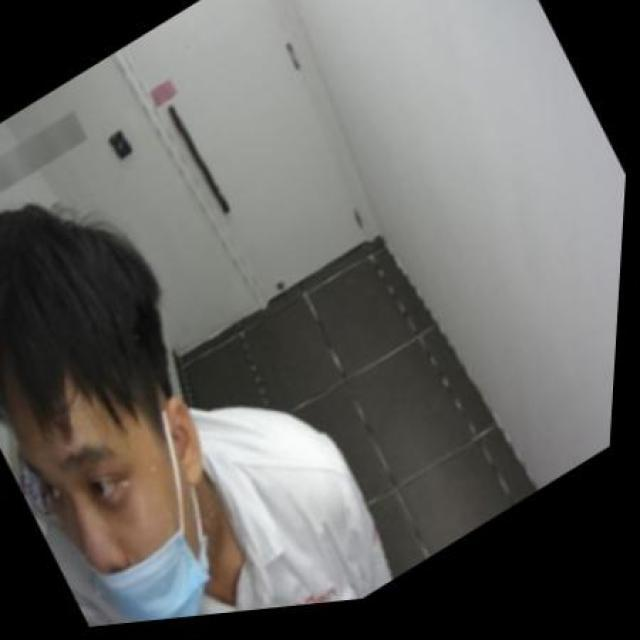hairnet: (17, 376, 249, 635)
